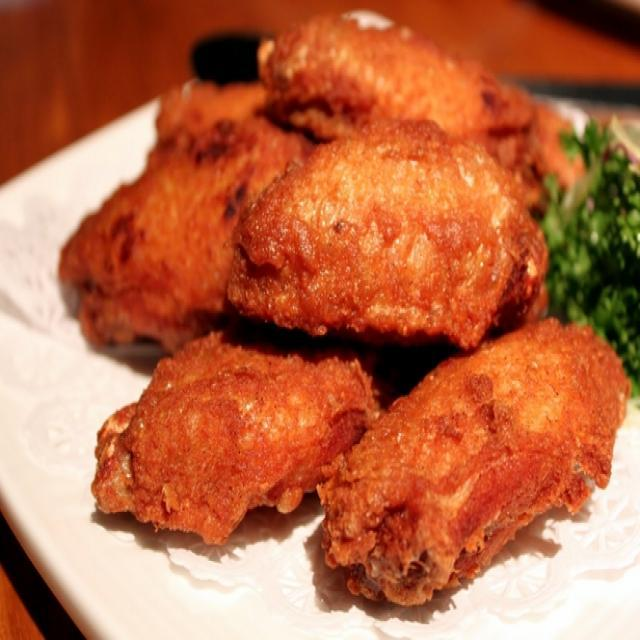Deep fried chicken wing: (325, 315, 640, 615), (222, 105, 570, 353), (78, 316, 382, 546)
